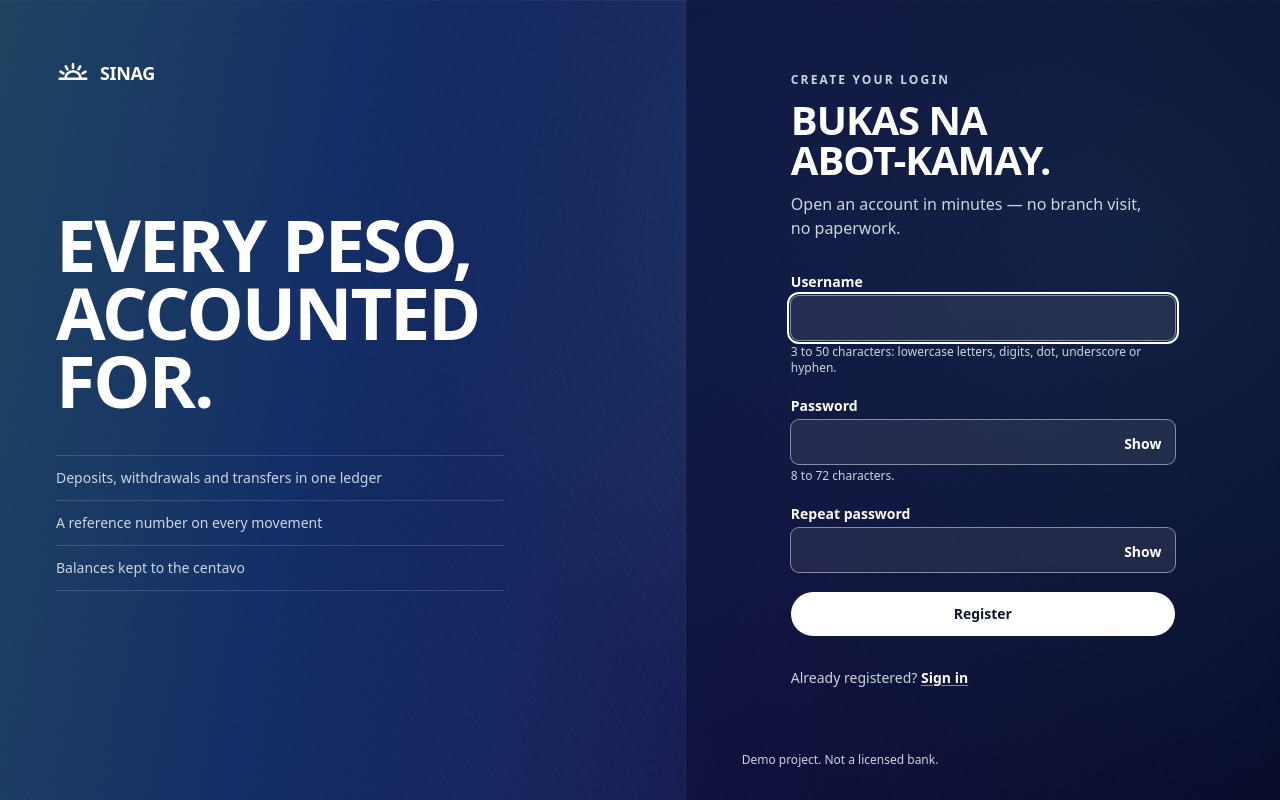
Scenario: RegisterPage › shows the backend message when the username is taken
Type "alice" into the field labelled "Username" at (983, 318), box [791,296,1175,340]
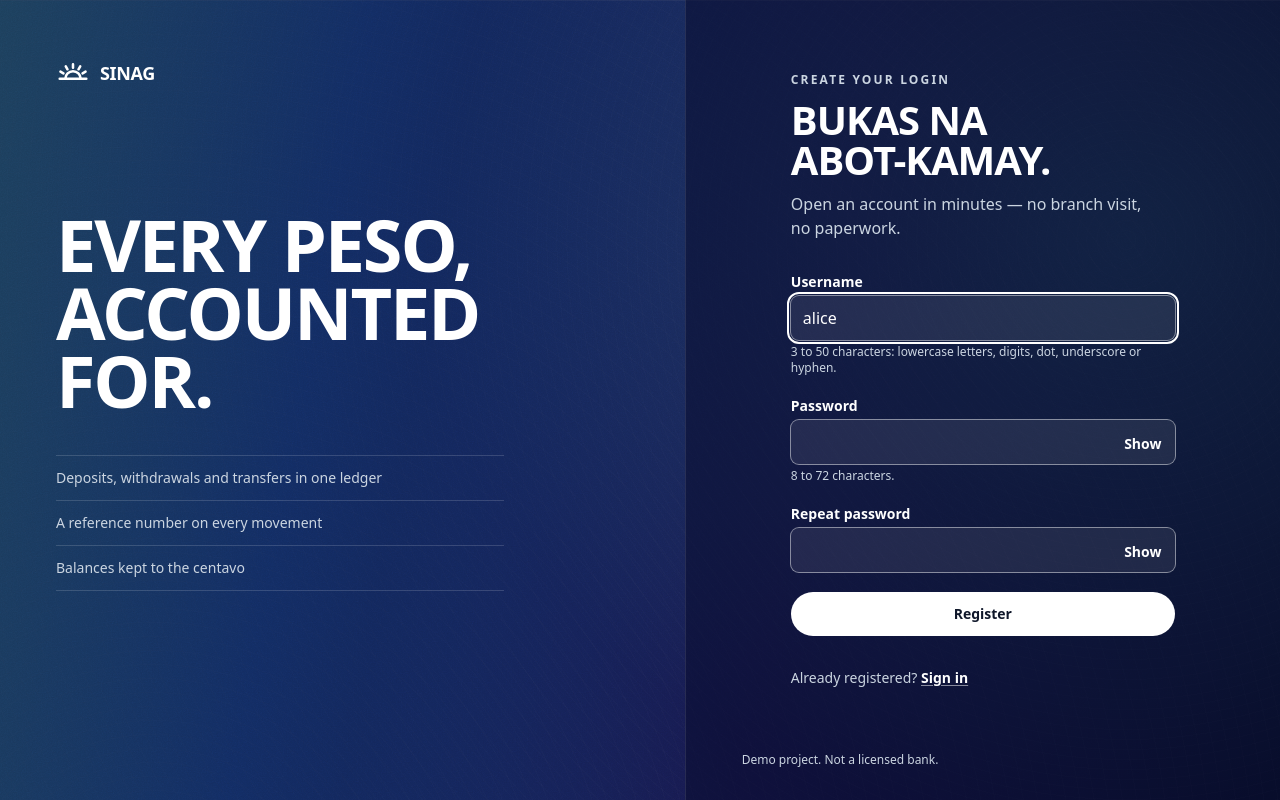
Type "long-enough-1" into the password field labelled "Password" at (983, 442), box [791,420,1175,464]
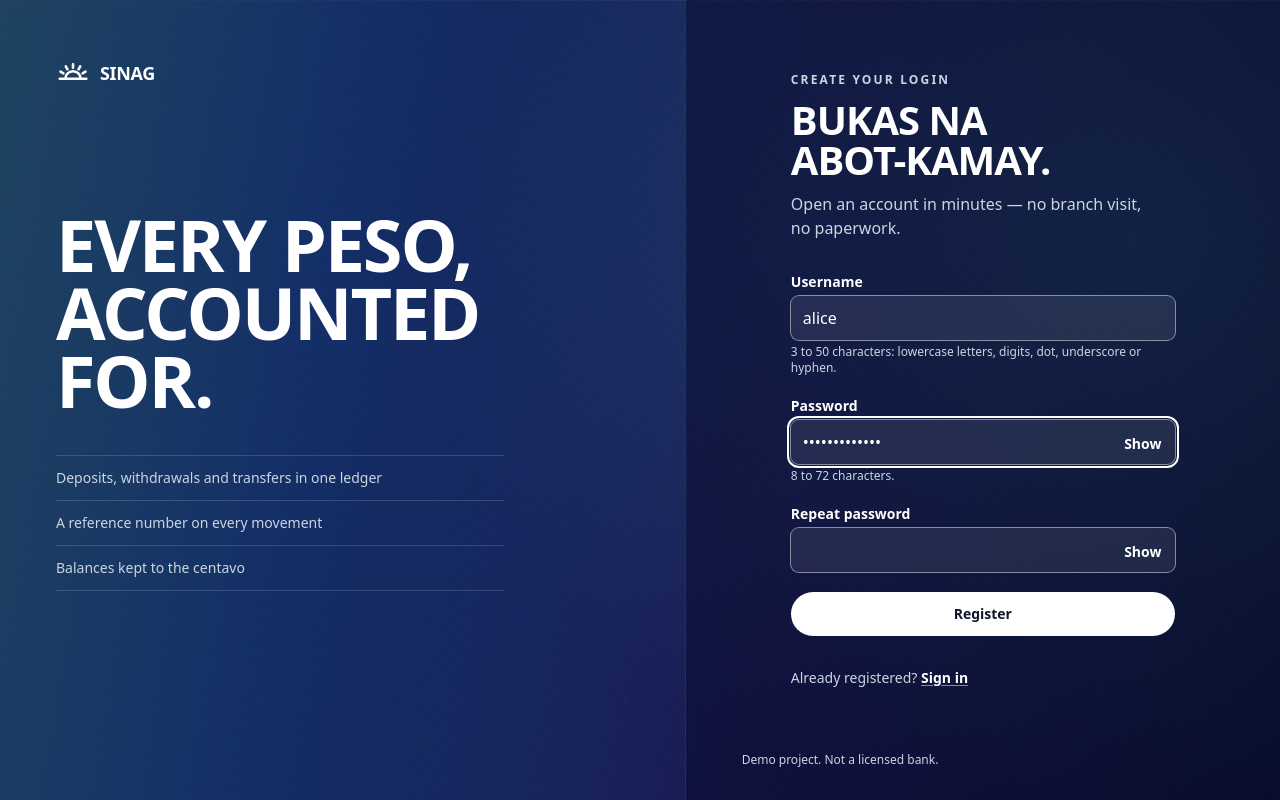
Type "long-enough-1" into the password field labelled "Repeat password" at (983, 550), box [791,528,1175,572]
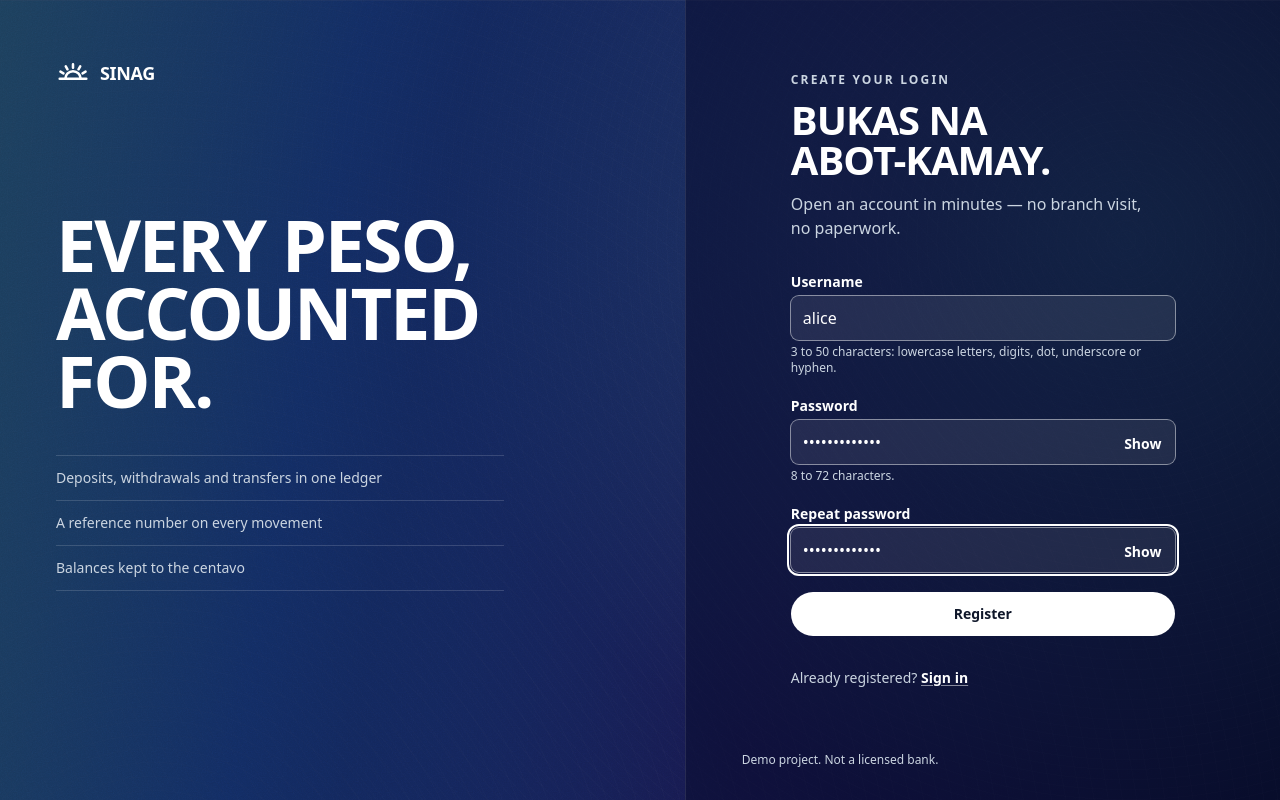
Click the button "Register" at (983, 614), box [791,592,1175,636]
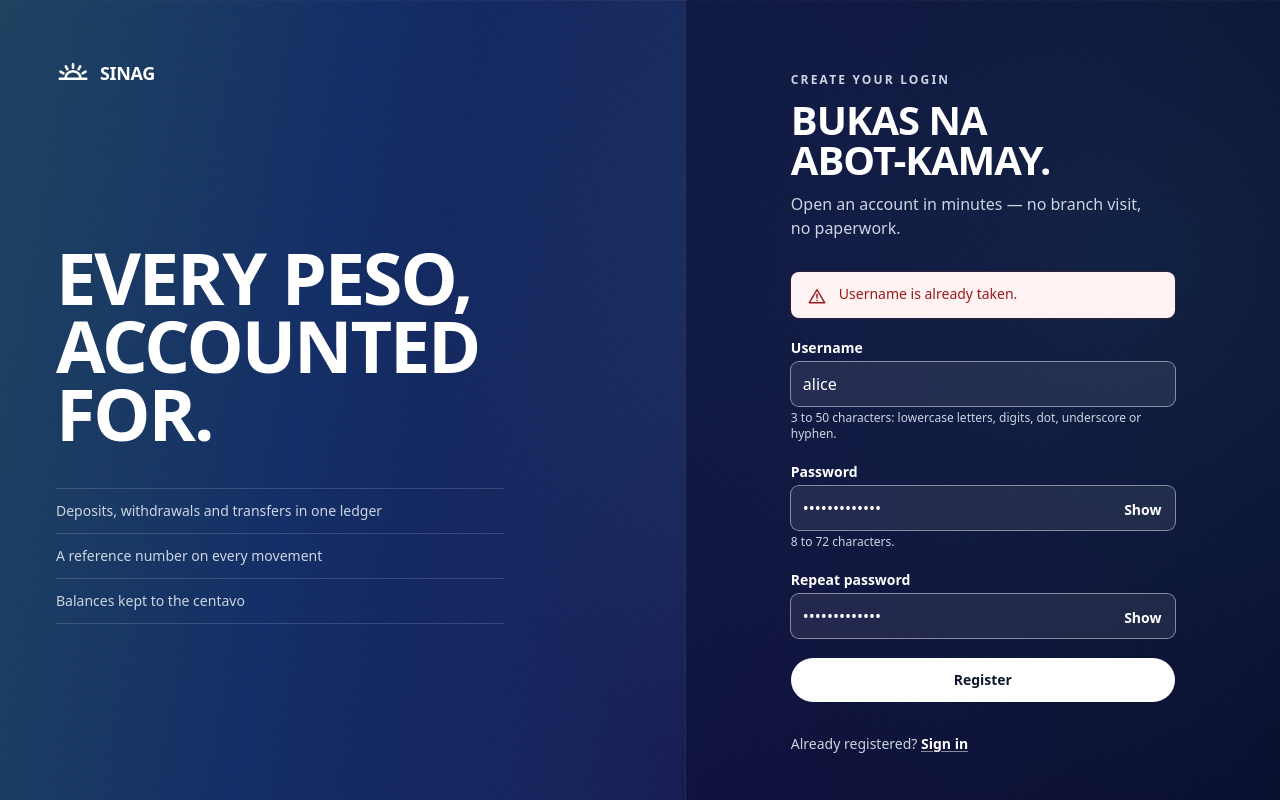
Now the message reads "Username is already taken.", box [839,284,1017,303]
